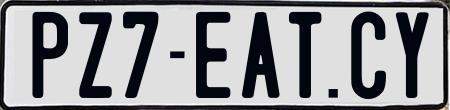7: (122, 10, 159, 100)
A: (240, 9, 279, 98)
C: (348, 10, 383, 103)
E: (195, 11, 230, 101)
P: (29, 12, 70, 100)
T: (288, 9, 326, 97)
Y: (393, 10, 426, 100)
Z: (79, 10, 114, 101)
